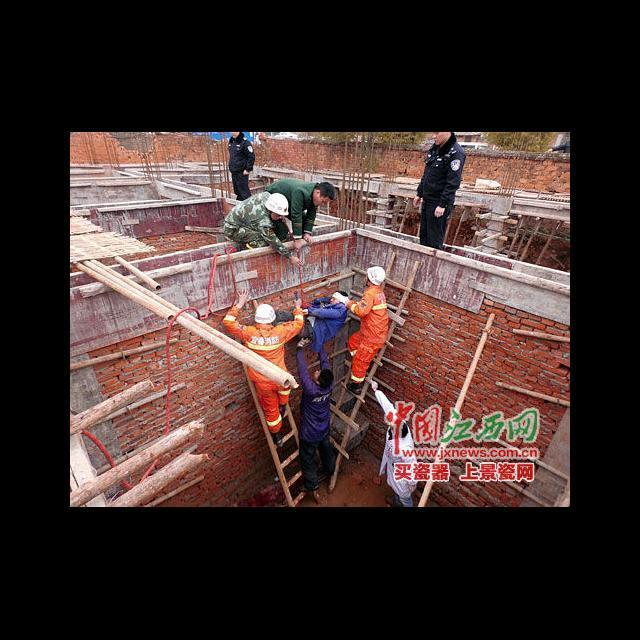Capacete: (265, 193, 288, 215), (254, 304, 275, 323), (367, 266, 385, 284)
Pessoa: (296, 346, 335, 503), (223, 294, 303, 370), (414, 132, 464, 248), (223, 192, 300, 264), (346, 266, 388, 394), (265, 179, 335, 249), (379, 421, 416, 506), (298, 291, 347, 351), (228, 131, 254, 200)
